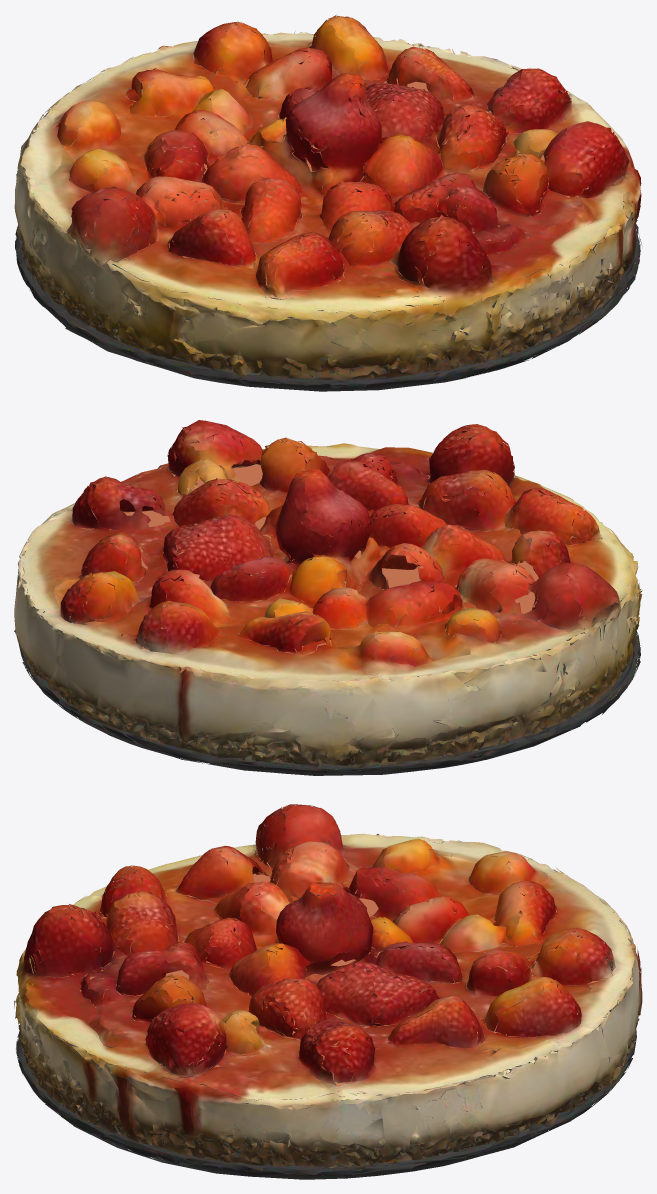
Rendered from cardamomo-4003.glb.
3 renders of one model, top to bottom at view 1: azimuth 30°, elevation 25°; view 2: azimuth 150°, elevation 25°; view 3: azimuth 270°, elevation 25°, orthographic.
Parts seen in each view (by area): view 1: world_1, plug; view 2: world_1, plug; view 3: world_1, plug.
Boxes of the visible parts, box(x1,y1,x2,y2) form: world_1: box(14, 15, 641, 391); plug: box(65, 64, 601, 296); world_1: box(14, 420, 642, 775); plug: box(54, 465, 584, 689); world_1: box(14, 804, 642, 1179); plug: box(53, 857, 601, 1090).
Size of the model in its own units: 0.2408 by 0.0783 by 0.2407.
Materials: 2 (1 with a texture image).
